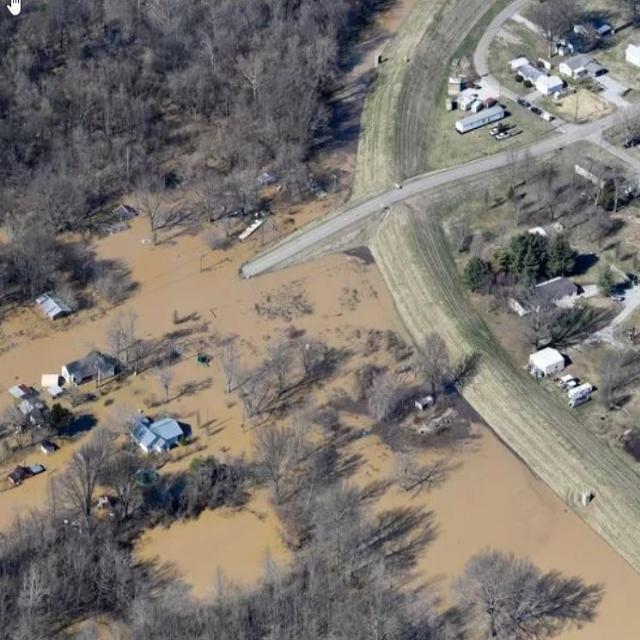flooded_areas: (0, 152, 602, 639)
